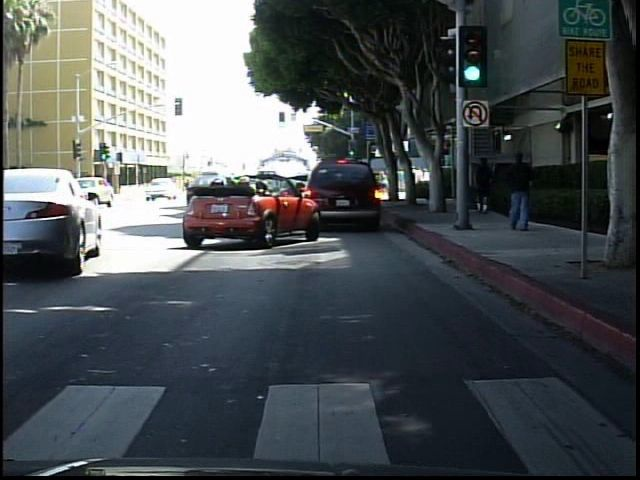person: (504, 142, 541, 236), (472, 149, 502, 219)
